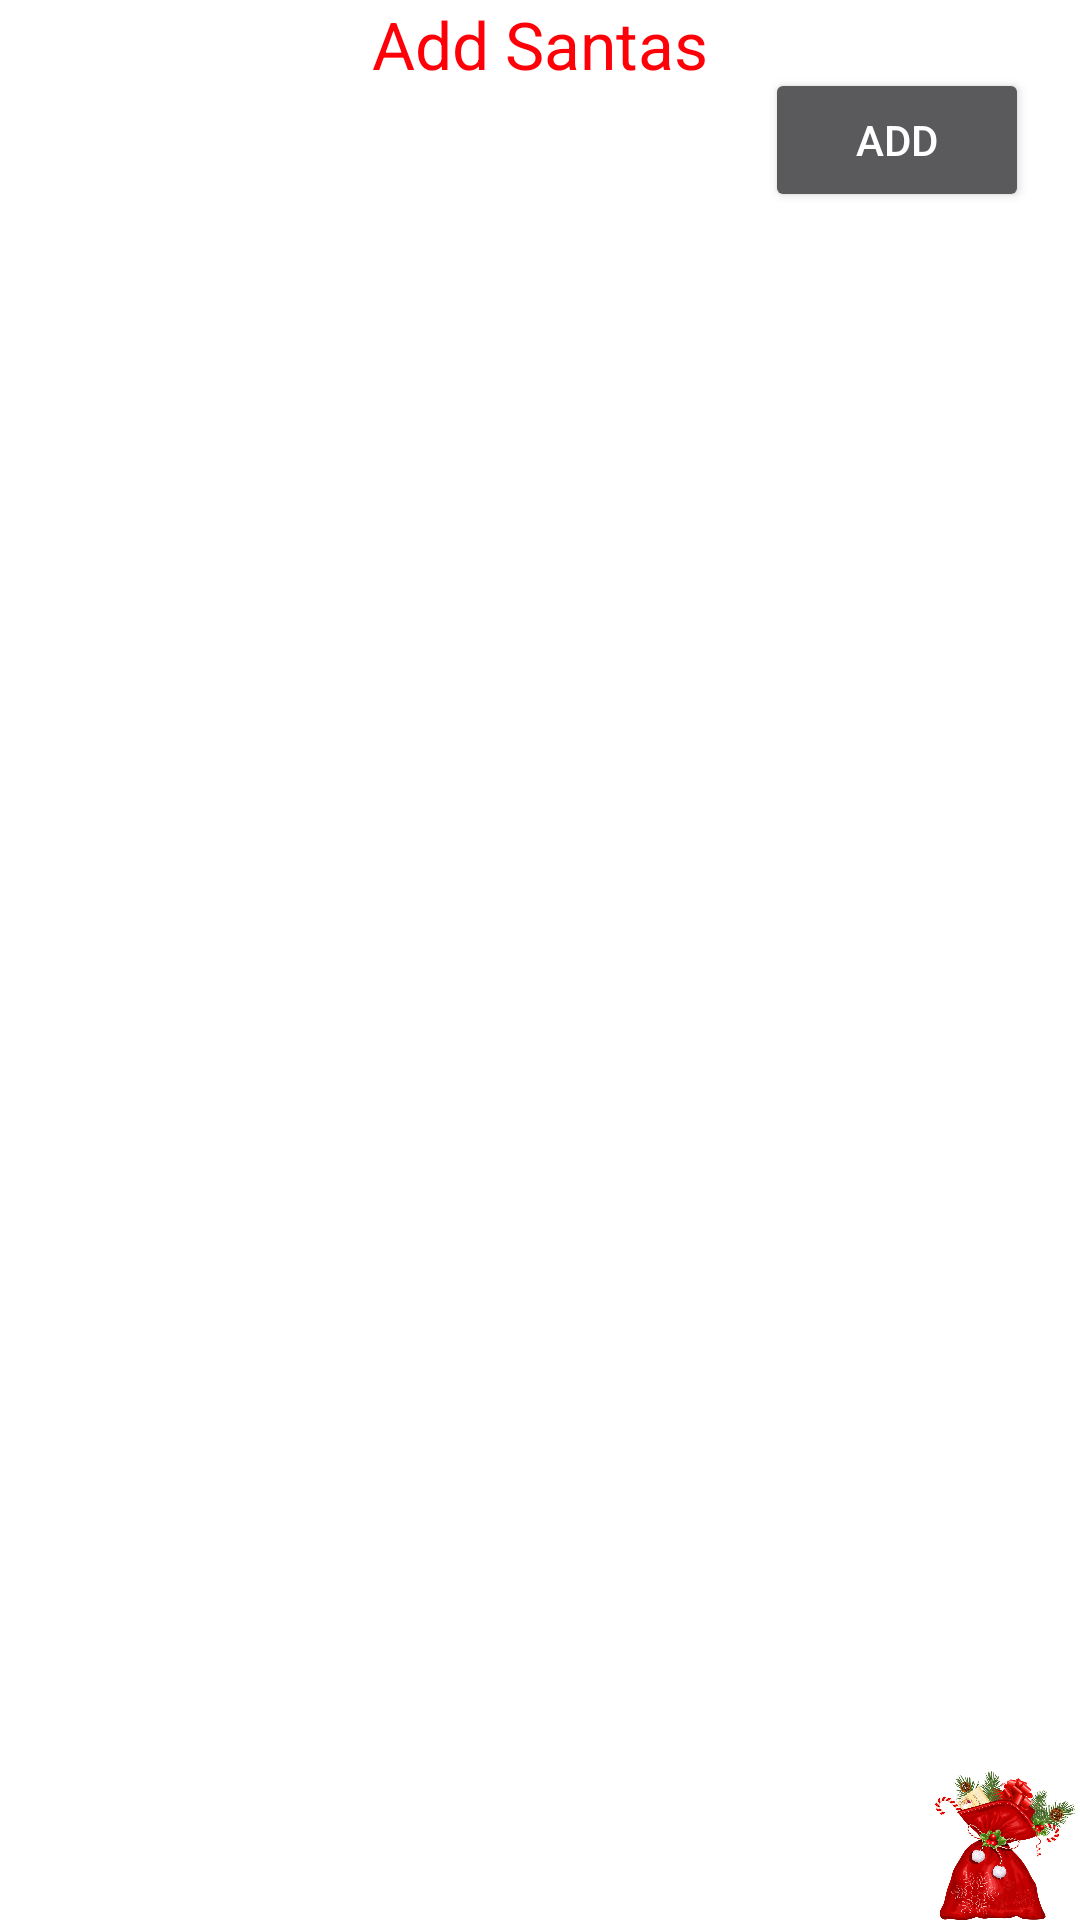

Icon bounding boxes for this 1080px x 1920px phone screenshot, format (x1, y1, x2, y2):
santasack: (935, 1771, 1075, 1920)
